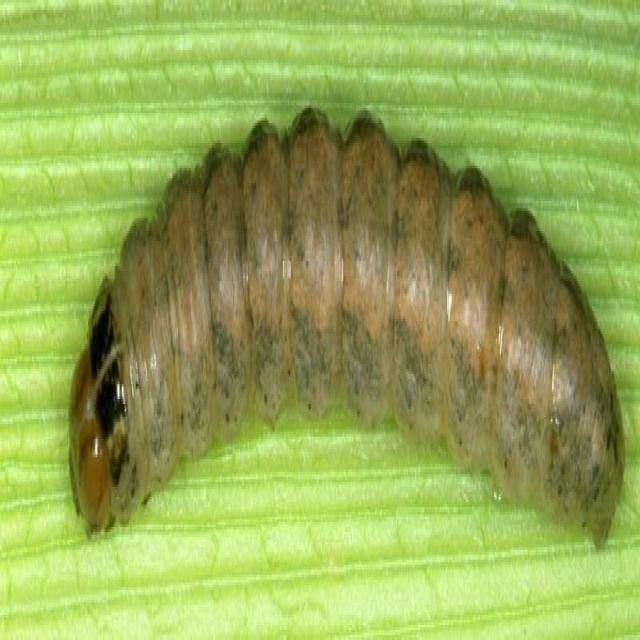Corn-earworm: (68, 89, 628, 584)
